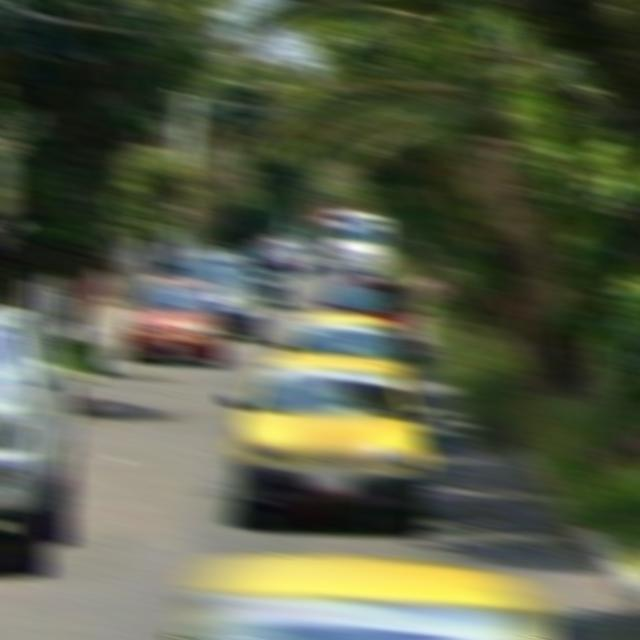Fire: (171, 555, 561, 640), (270, 313, 411, 363)
Taxi: (222, 352, 435, 536)
